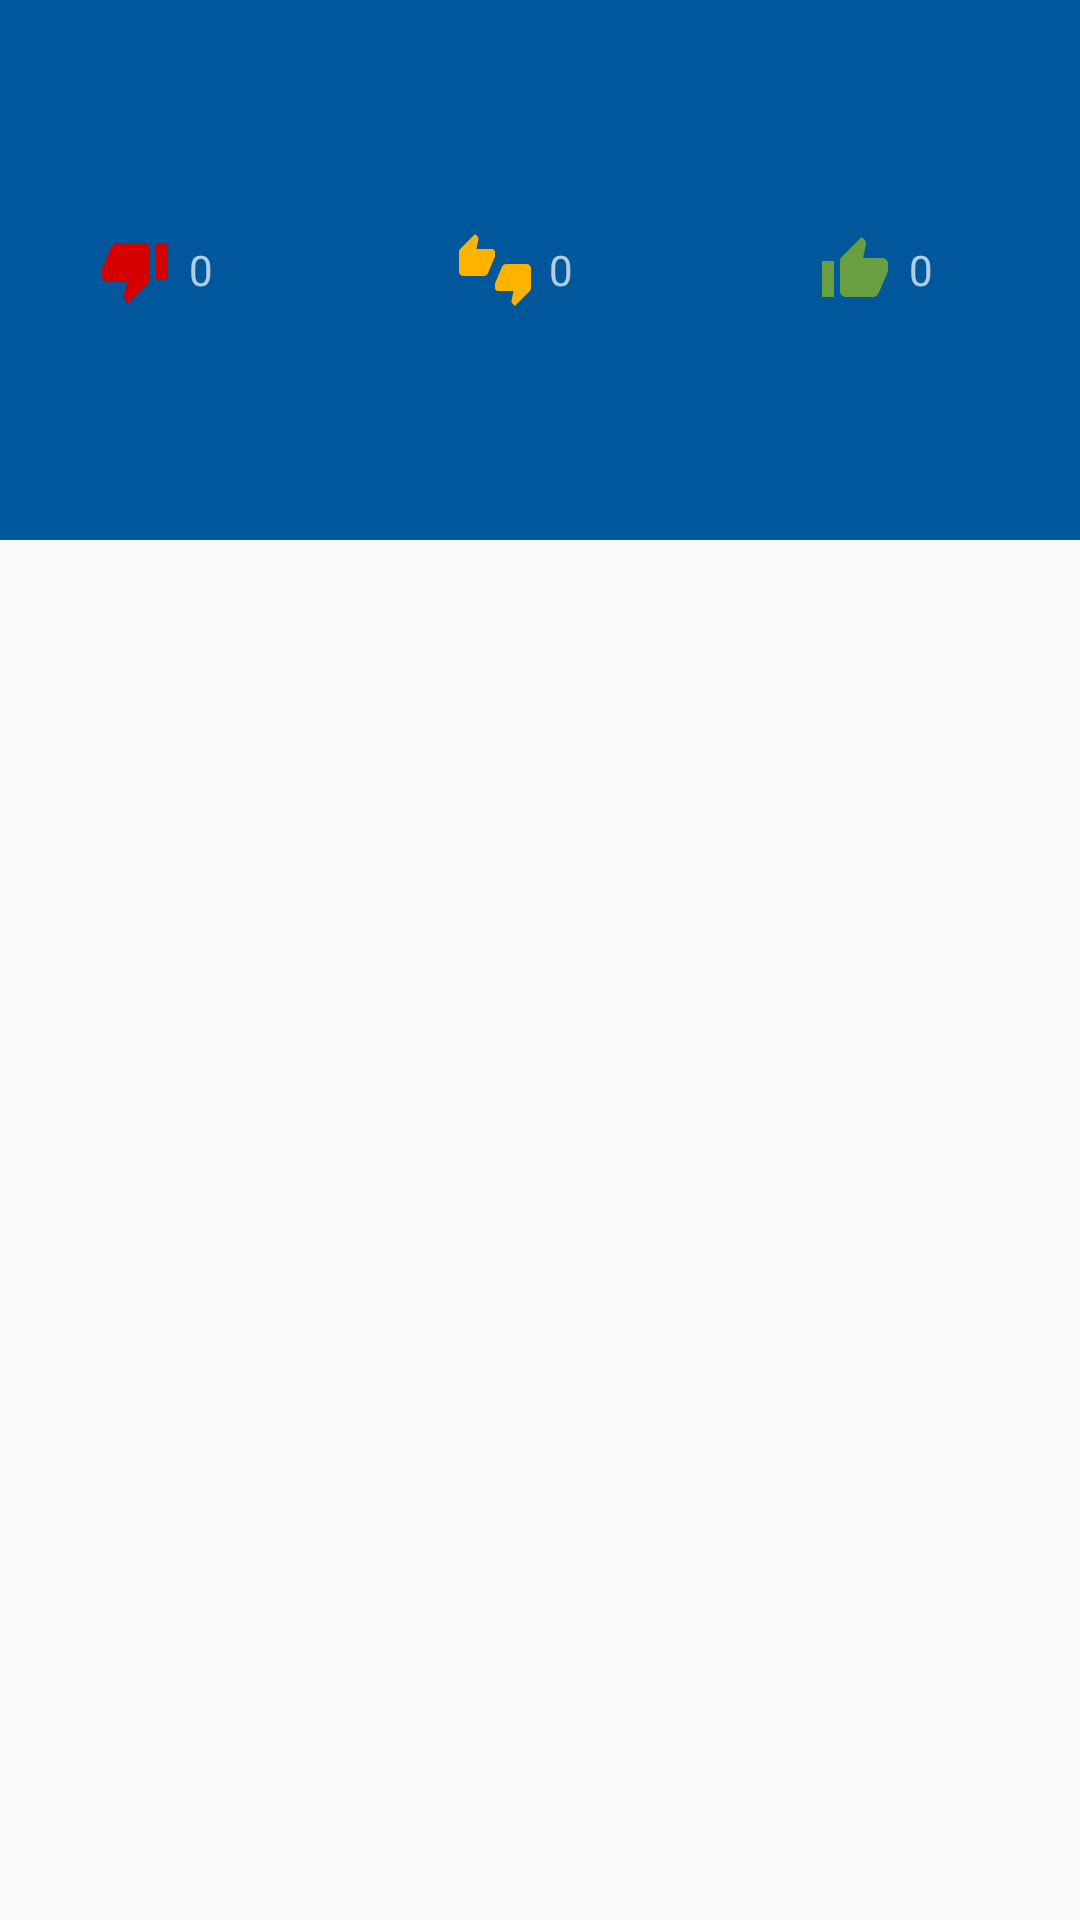

Icons on this 1080×1920 Android screen, each with its box as bbox=(x1, y1, x2, y2):
thumb down: bbox=(102, 243, 168, 303)
thumb up: bbox=(822, 237, 888, 297)
thumbs up down: bbox=(459, 234, 531, 306)
